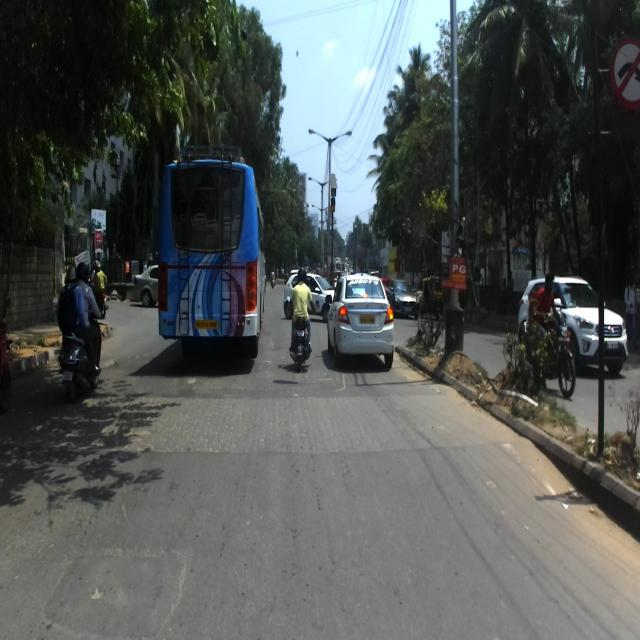autorickshaw: (421, 275, 444, 317)
bus: (157, 141, 267, 363)
car: (518, 274, 628, 380), (323, 269, 395, 372), (281, 270, 338, 320), (385, 275, 417, 319)
motorcycle: (520, 301, 577, 399), (285, 296, 312, 372)
scooter: (55, 303, 102, 403)
